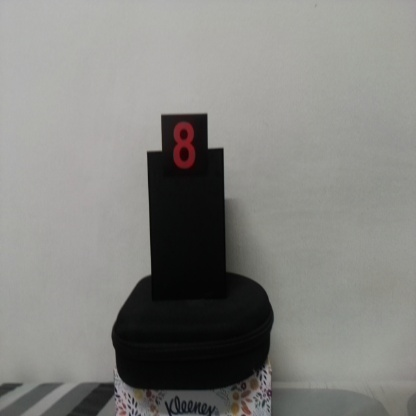id_8: (161, 115, 208, 188)
